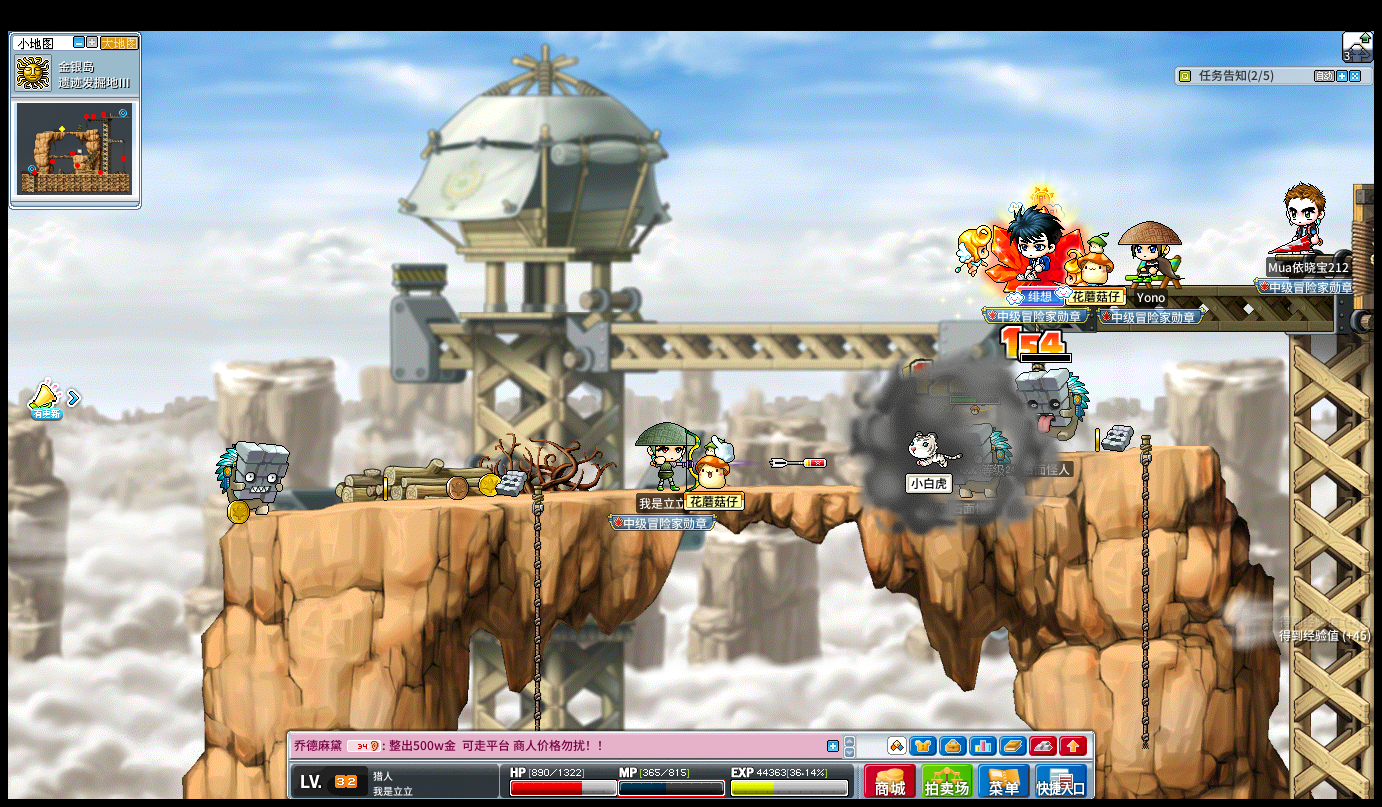floor: (233, 477, 986, 512), (242, 480, 1039, 506), (245, 480, 895, 502), (1061, 444, 1215, 458)
monster: (214, 439, 290, 519), (1018, 367, 1090, 446), (957, 422, 1013, 494)
rope: (1137, 435, 1152, 754), (530, 484, 542, 683)
